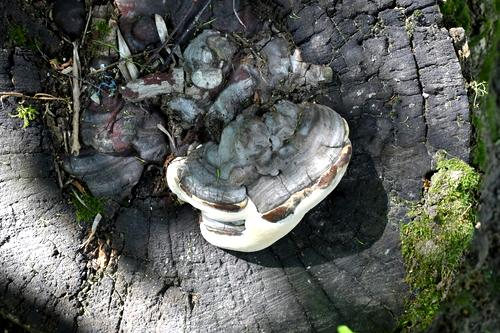Ganoderma - Fruit Body: (168, 102, 352, 254)
